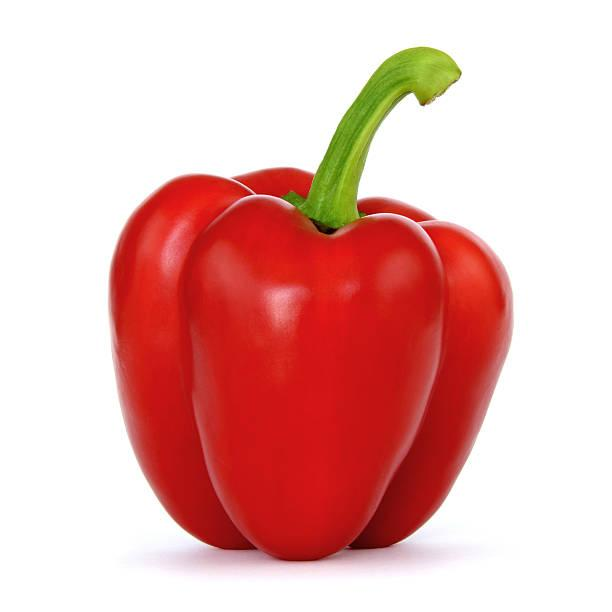Capsicum: (111, 47, 510, 559)
